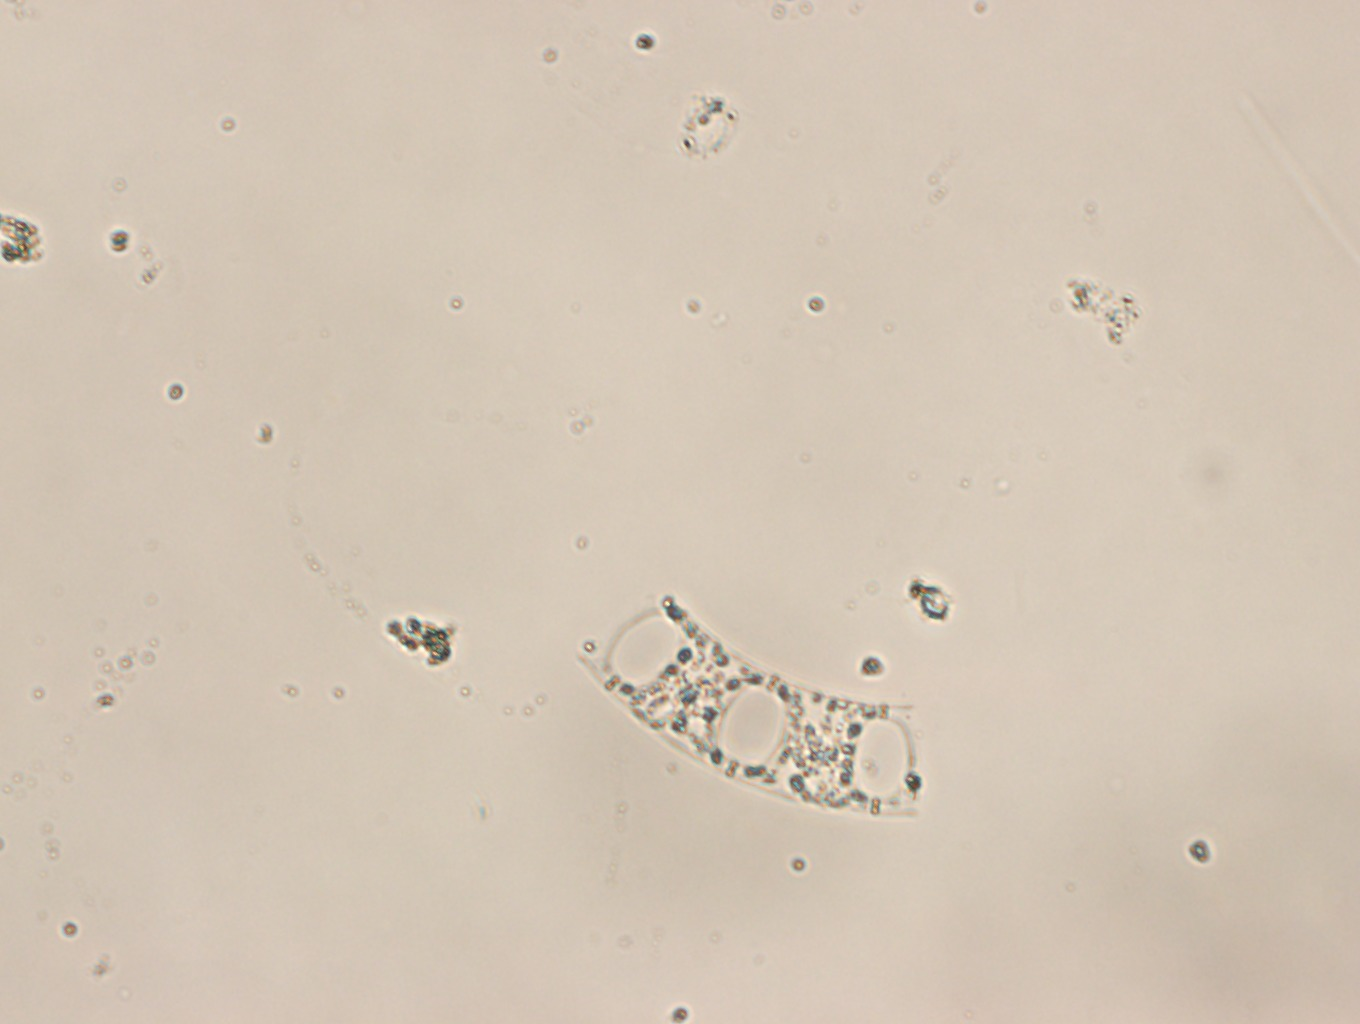eucampia: (574, 589, 929, 821)
